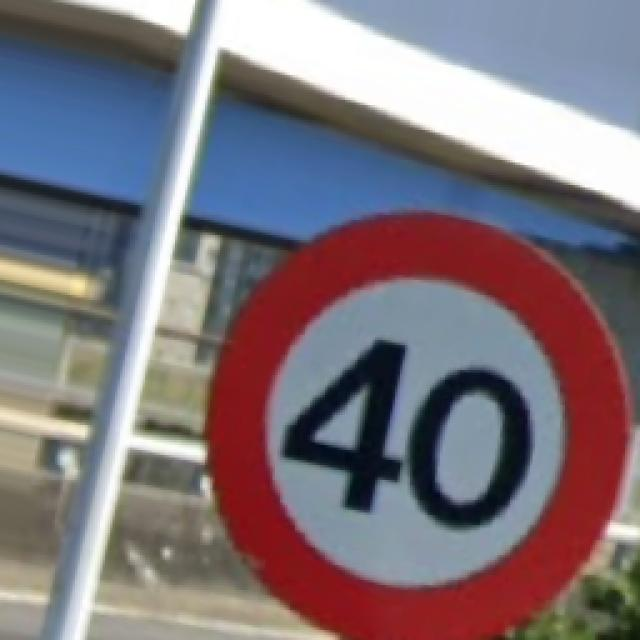Speed Limit -40-: (210, 212, 628, 638)
